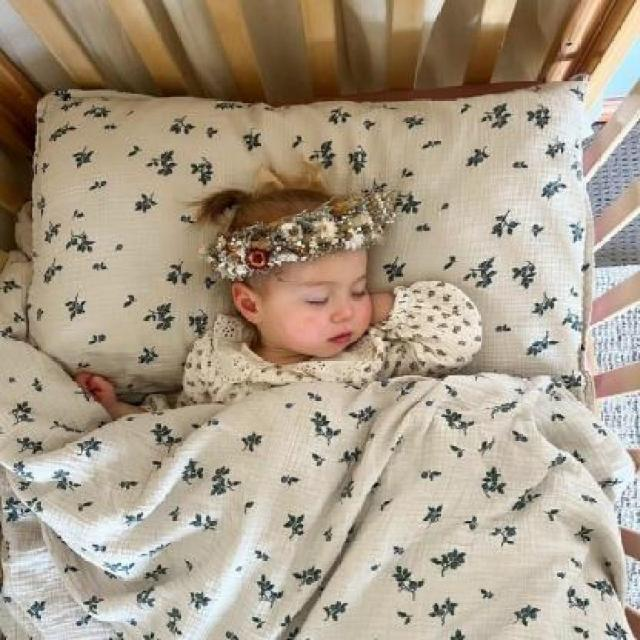baby: (73, 182, 484, 424)
